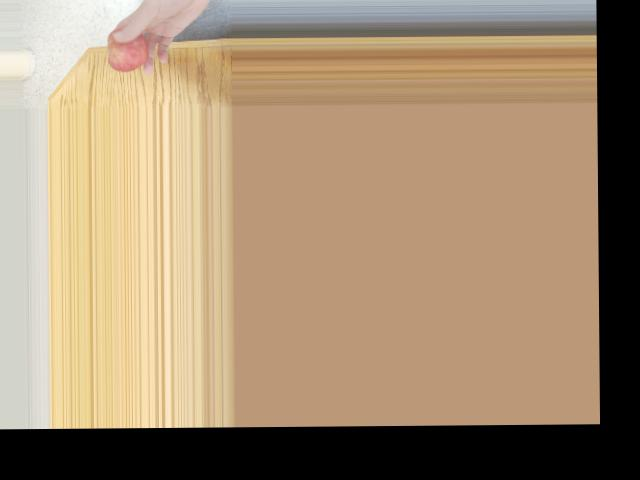apple: (103, 27, 149, 70)
